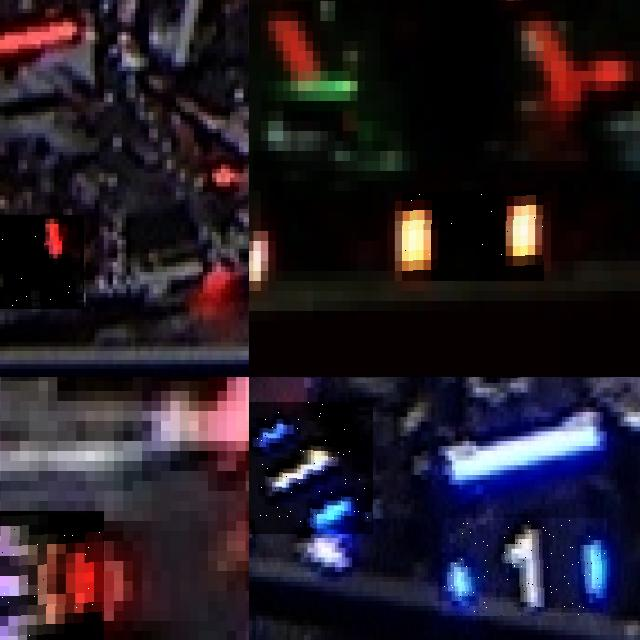B1: (442, 518, 607, 616), (249, 402, 372, 533)
R1: (0, 215, 83, 308)
R3: (0, 511, 104, 640)
Rs: (402, 191, 544, 281)
